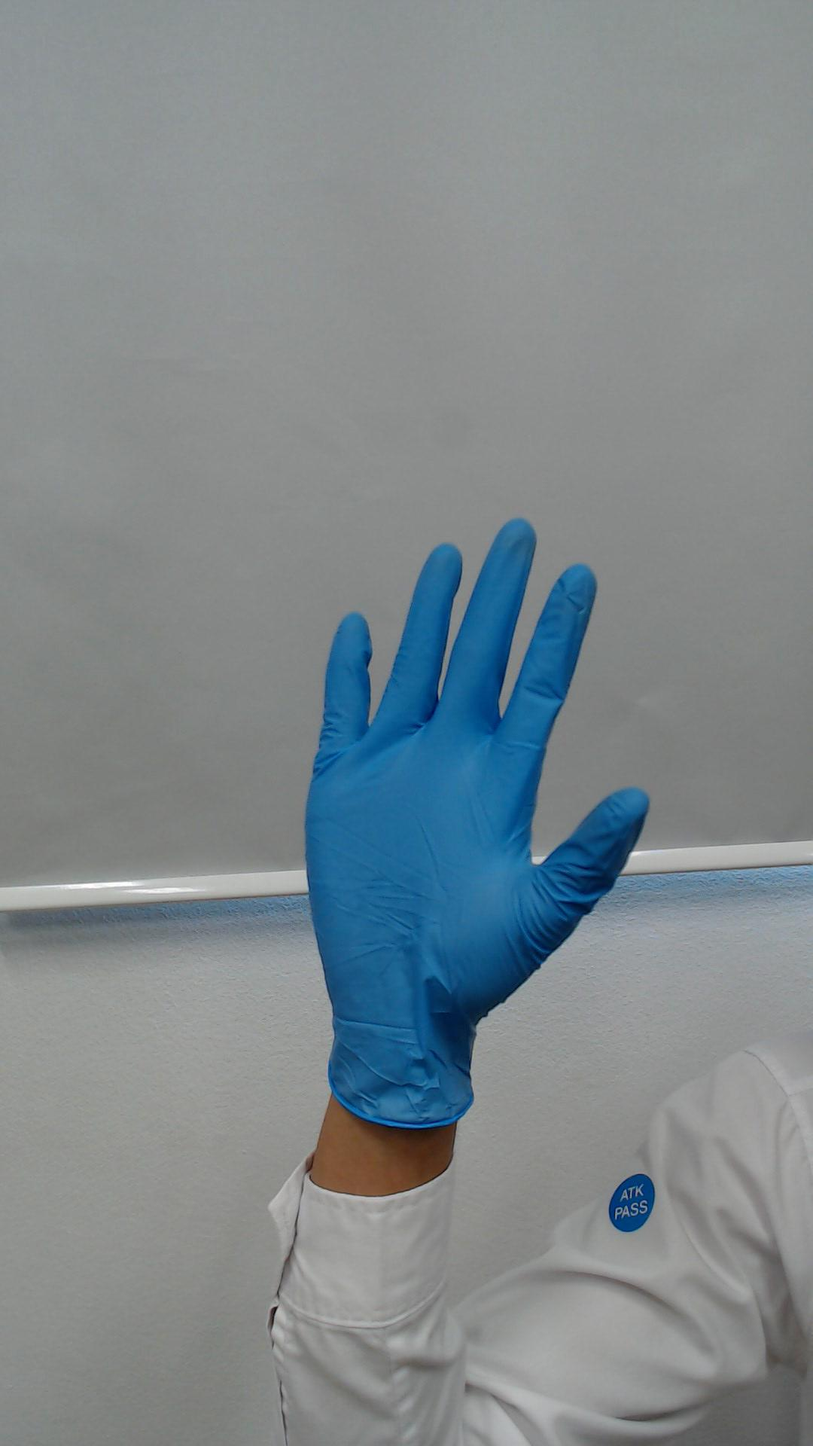gloves: (289, 485, 679, 991)
